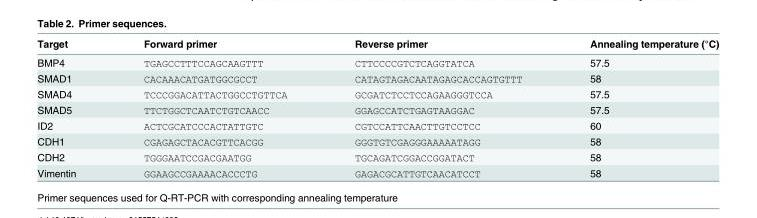table: (36, 37, 718, 178)
table column: (320, 37, 555, 178), (109, 37, 320, 178), (555, 37, 718, 178), (36, 37, 109, 178)
table column header: (36, 37, 718, 52)
table row: (36, 52, 718, 70), (36, 70, 718, 86), (36, 101, 718, 117), (36, 117, 718, 133), (36, 133, 718, 149), (36, 37, 718, 52), (36, 86, 718, 101), (36, 149, 718, 164), (36, 164, 718, 178)
